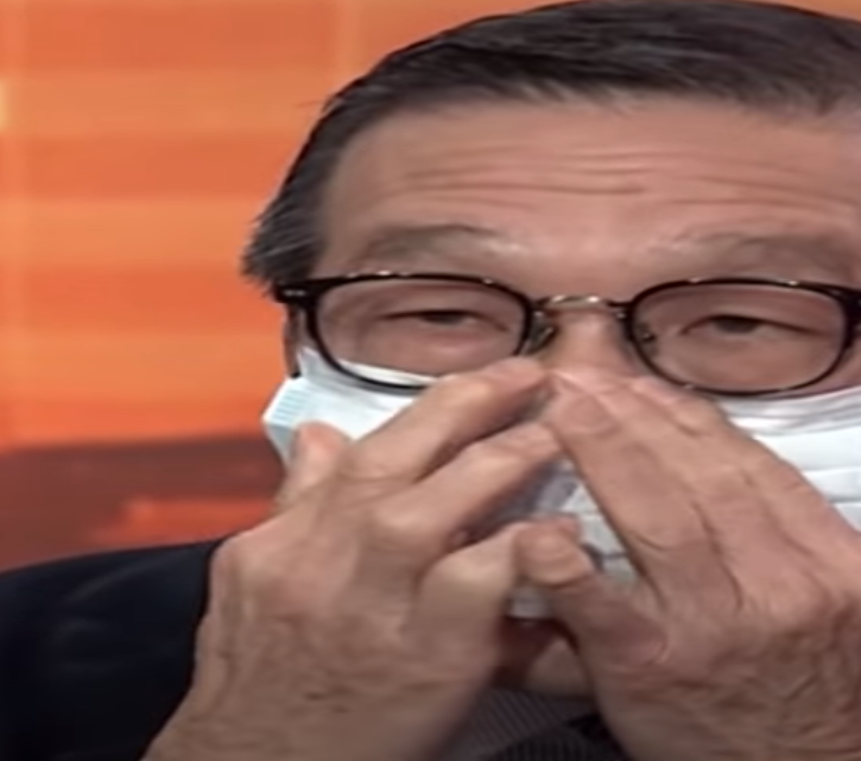mask_weared_incorrect: (261, 26, 861, 704)
